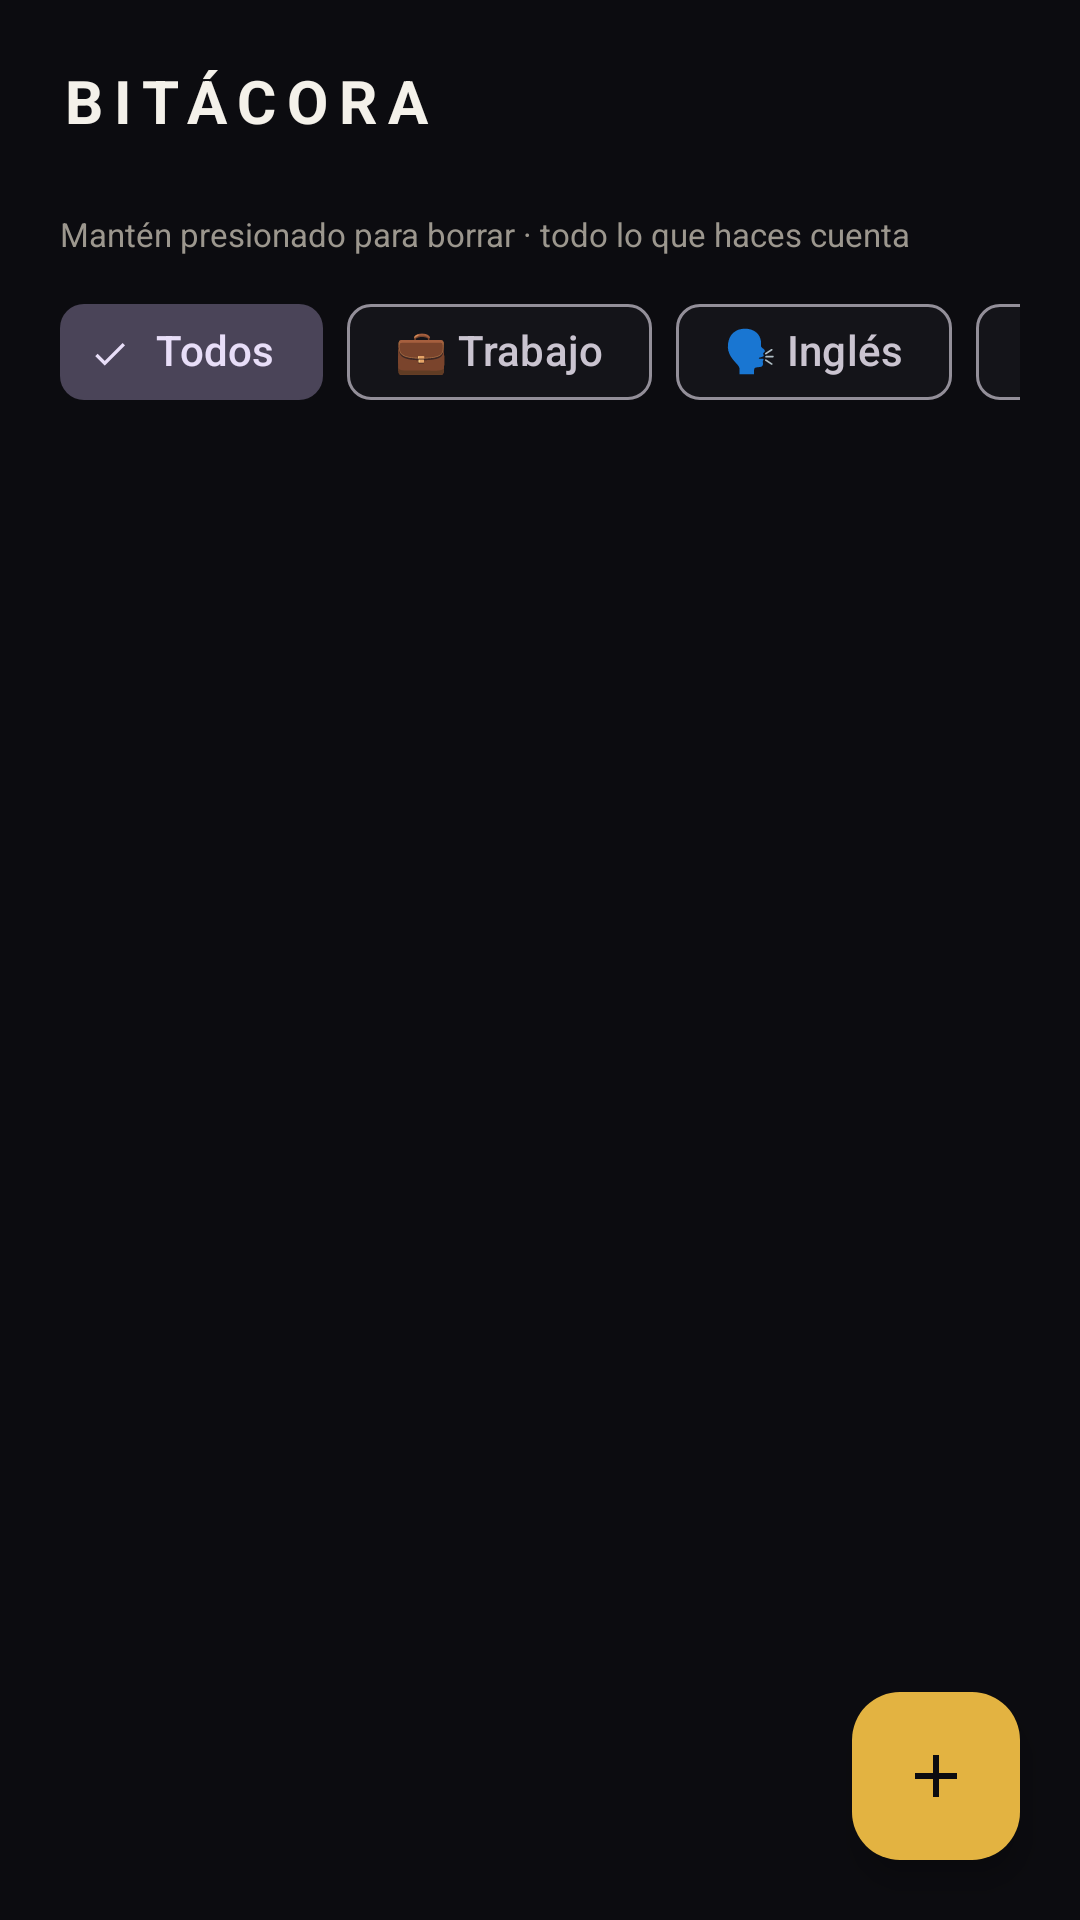

Named icons in this screenshot (1080 x 1920) and their centers, [x,y]:
Agregar registro: [936,1776]
